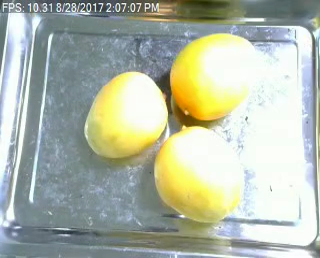Mango: (156, 124, 245, 225), (83, 71, 167, 162), (172, 35, 258, 122)
